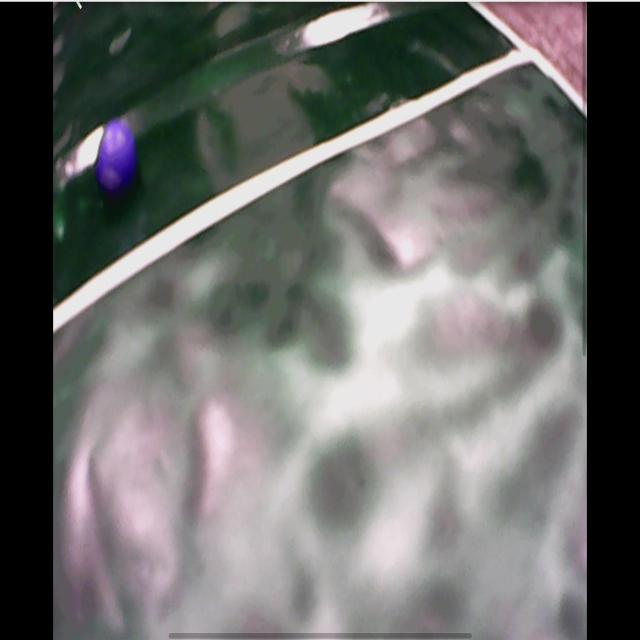ball: (92, 117, 140, 195)
